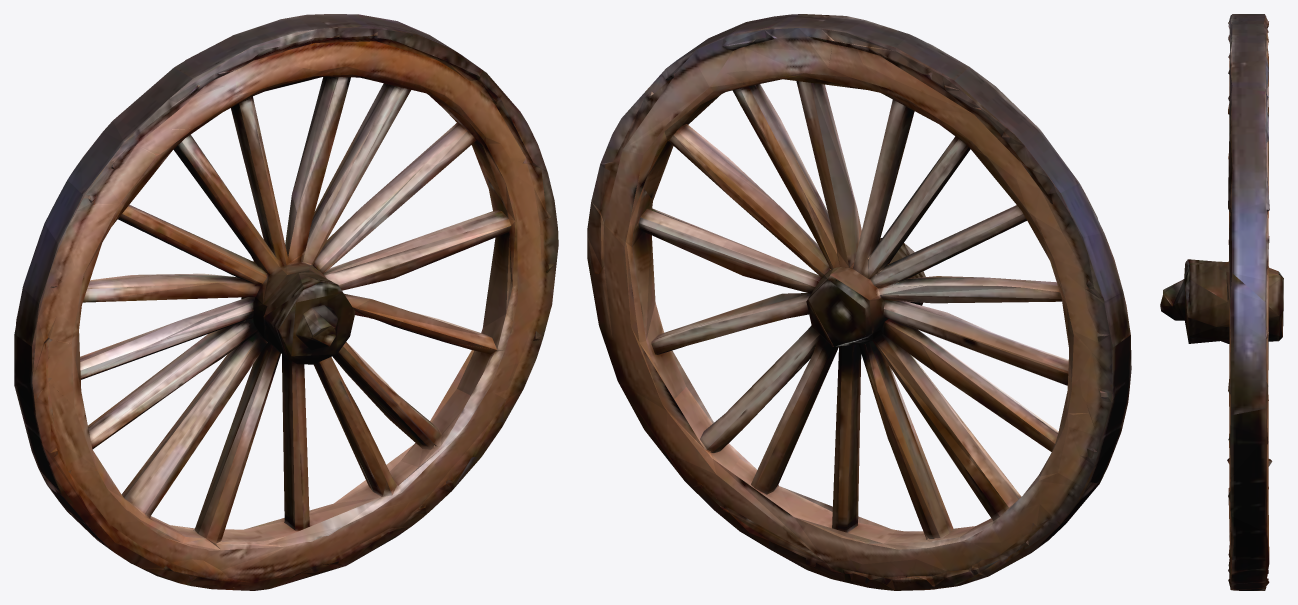
File: prop_cart_wheel_01.glb
The picture shows the model from 3 angles, left to right: view 1: azimuth 30°, elevation 25°; view 2: azimuth 150°, elevation 25°; view 3: azimuth 270°, elevation 25°; orthographic projection. The views are drawn at different scales.
Parts seen in each view (by area): view 1: geometry_0; view 2: geometry_0; view 3: geometry_0.
Part boxes in pixels (<box>): geometry_0: <box>14,14,558,590</box>; geometry_0: <box>587,14,1131,590</box>; geometry_0: <box>1160,14,1283,590</box>.
Size of the model in its own units: 0.9978 by 0.9976 by 0.214.
1 material, 1 textured.
